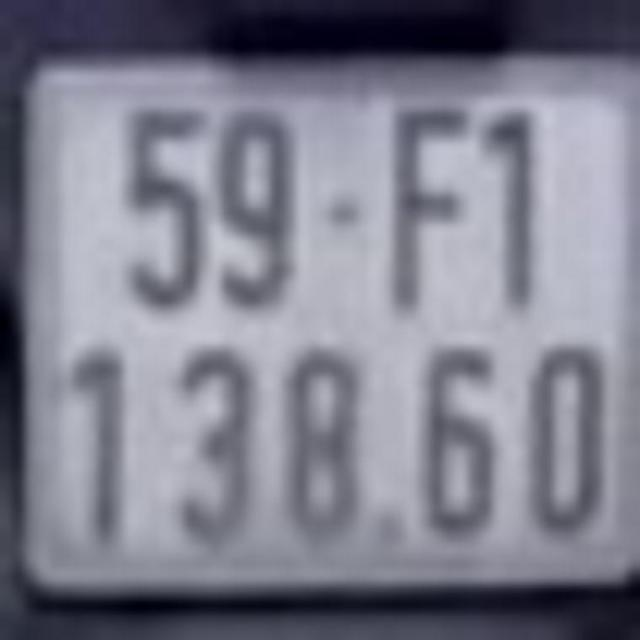0: (528, 344, 603, 549)
1: (68, 338, 130, 544), (482, 92, 537, 308)
3: (180, 341, 250, 538)
5: (128, 106, 210, 308)
6: (427, 343, 495, 540)
8: (290, 335, 360, 536)
9: (218, 103, 296, 312)
F: (394, 100, 472, 310)
